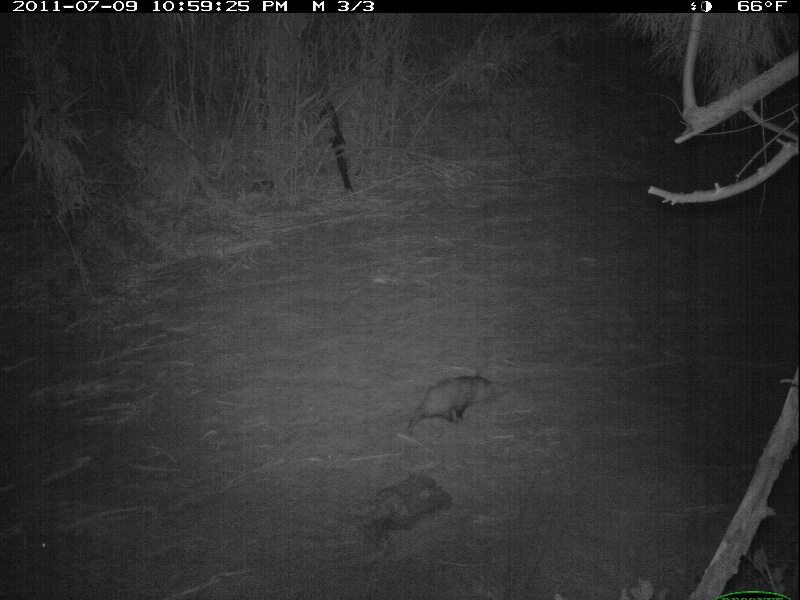opossum: (403, 372, 498, 439)
